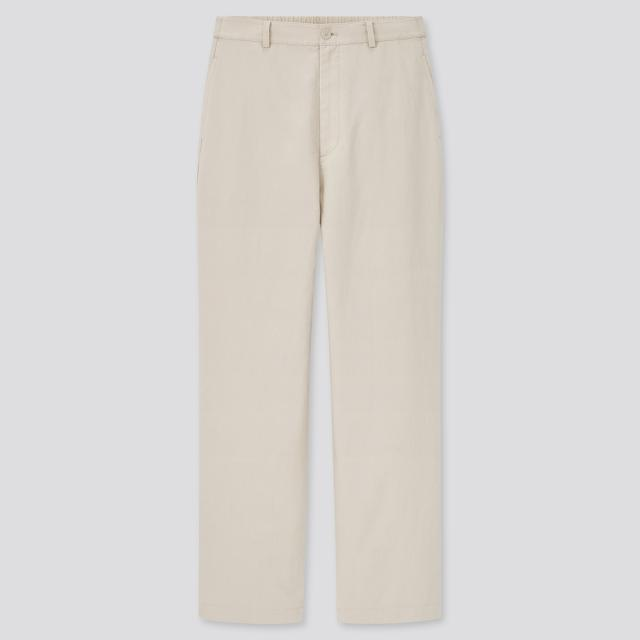long-pants: (196, 15, 449, 635)
